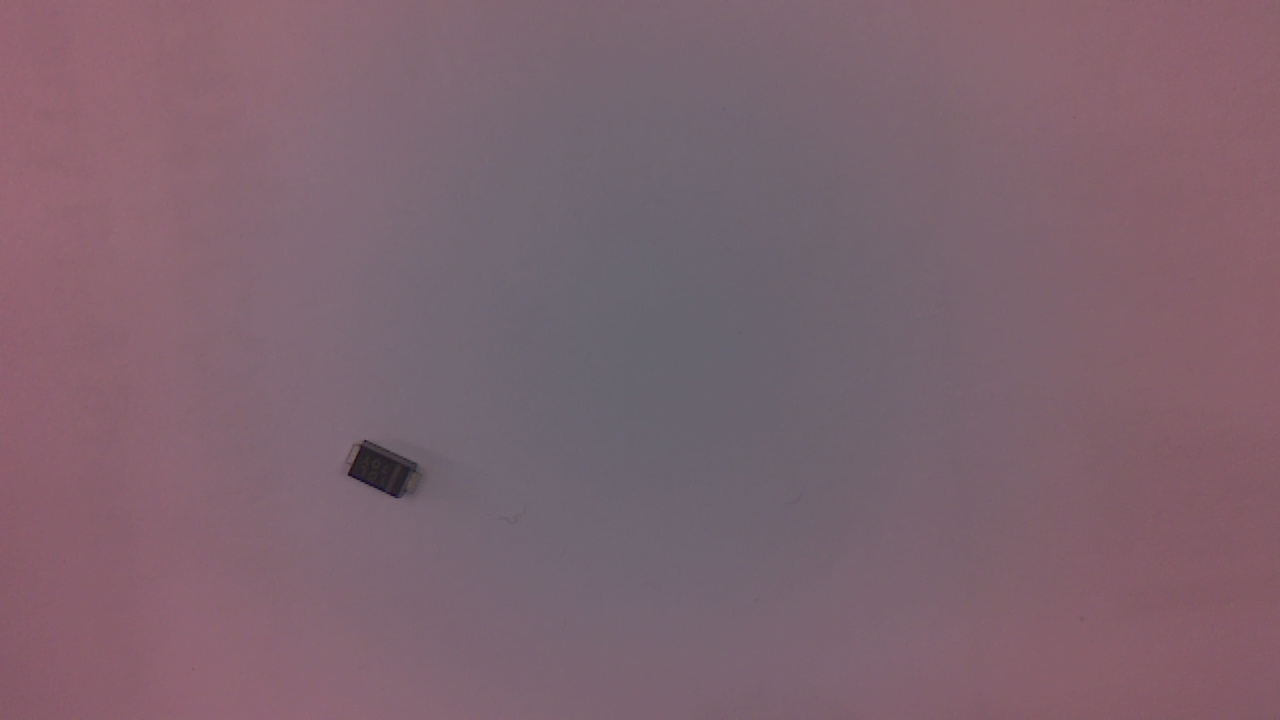Diode: (341, 443, 437, 506)
